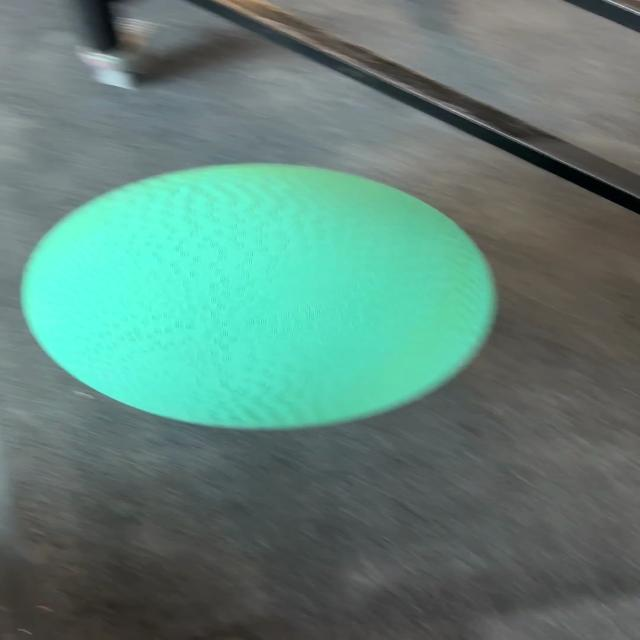Algae: (19, 162, 499, 431)
